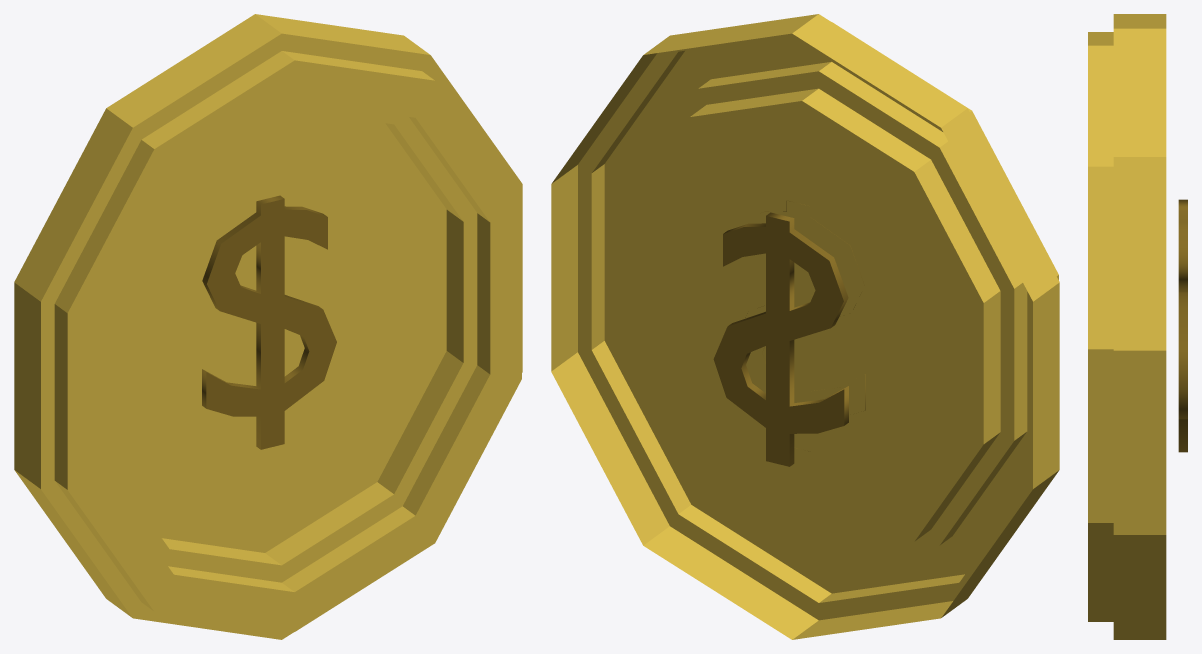
File: Coin 1.fbx
3 views of the same model, side by side, from view 1: azimuth 30°, elevation 25°; view 2: azimuth 150°, elevation 25°; view 3: azimuth 270°, elevation 25° (orthographic).
Parts seen in each view (by area): view 1: Text; view 2: Text; view 3: Text.
Boxes of the visible parts, x1=… form: Text: x1=14, y1=14, x2=522, y2=639; Text: x1=551, y1=14, x2=1059, y2=639; Text: x1=1088, y1=14, x2=1187, y2=639.
Size of the model in its own units: 166 by 200 by 30.28.
